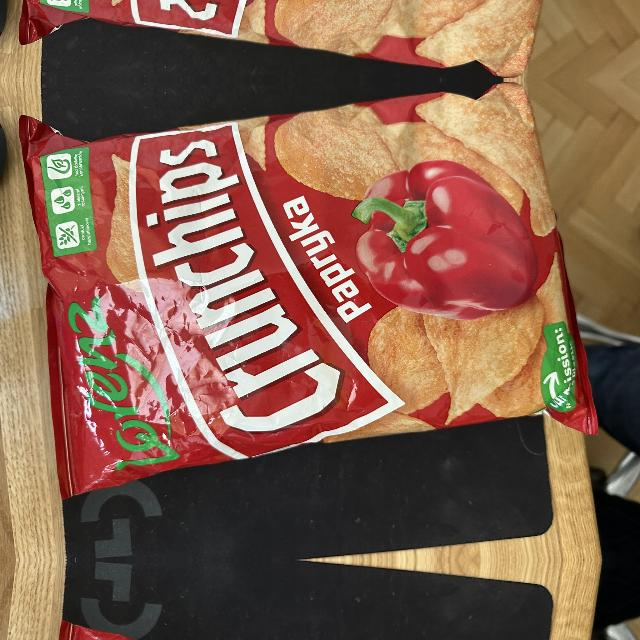crunchips: (130, 123, 406, 460)
